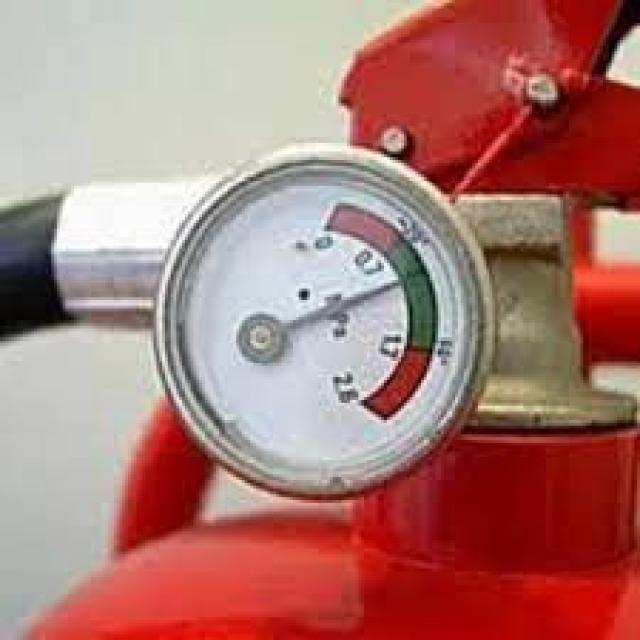pressure gauge: (152, 145, 494, 499)
